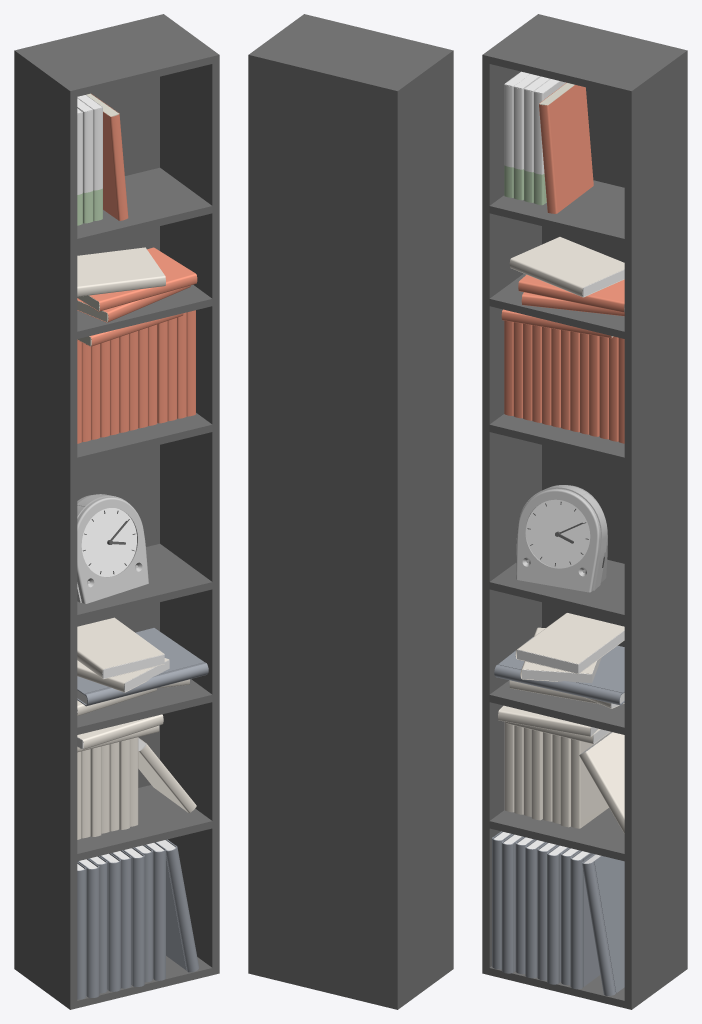
File: 145_本が入った本棚.glb
3 views of the same model, side by side, from view 1: azimuth 30°, elevation 25°; view 2: azimuth 150°, elevation 25°; view 3: azimuth 330°, elevation 25° (orthographic).
Parts seen in each view (by area): view 1: 本棚, 本7, 本3, 本6, 本5, 084_置時計, 本2, 本1, 板1, 板6, 板4, 板5 (+2 smaller); view 2: 本棚; view 3: 本棚, 本7, 本3, 本6, 本1, 本5, 084_置時計, 本2, 板1, 板4, 板6, 板5 (+2 smaller).
Part boxes in pixels (bbox=[...]): 本棚: bbox=[14, 14, 219, 1009]; 本7: bbox=[77, 839, 199, 999]; 本3: bbox=[77, 310, 195, 443]; 本6: bbox=[77, 714, 196, 839]; 本5: bbox=[77, 617, 208, 715]; 084_置時計: bbox=[77, 494, 148, 603]; 本2: bbox=[77, 247, 197, 322]; 本1: bbox=[77, 93, 128, 225]; 板1: bbox=[77, 167, 212, 246]; 板6: bbox=[77, 785, 212, 861]; 板4: bbox=[77, 544, 212, 622]; 板5: bbox=[77, 679, 212, 734]; 本棚: bbox=[248, 14, 453, 1009]; 本棚: bbox=[482, 14, 687, 1009]; 本7: bbox=[492, 831, 624, 995]; 本3: bbox=[501, 309, 624, 443]; 本6: bbox=[498, 705, 624, 833]; 本1: bbox=[504, 71, 593, 213]; 本5: bbox=[494, 613, 624, 708]; 084_置時計: bbox=[516, 485, 607, 592]; 本2: bbox=[509, 237, 624, 316]; 板1: bbox=[489, 180, 624, 246]; 板4: bbox=[489, 559, 624, 622]; 板6: bbox=[489, 808, 624, 861]; 板5: bbox=[489, 680, 624, 734].
Bounding box in the file's own units: 0.255 × 1.5 × 0.1882.
